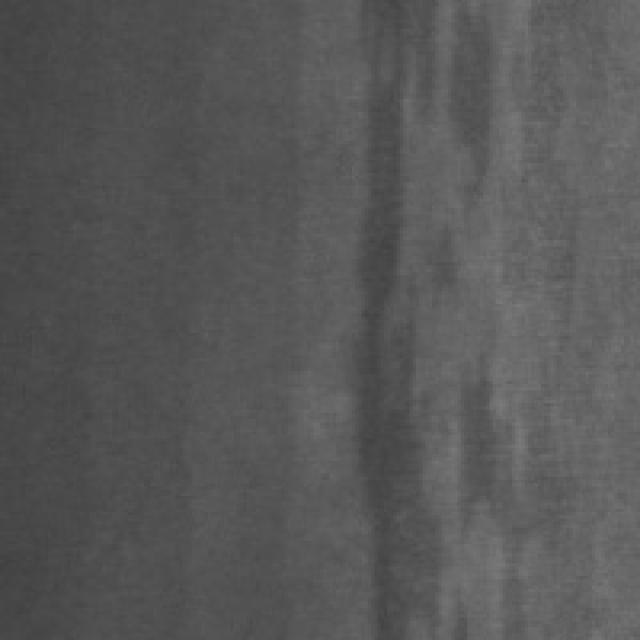inclusion: (349, 0, 525, 630)
